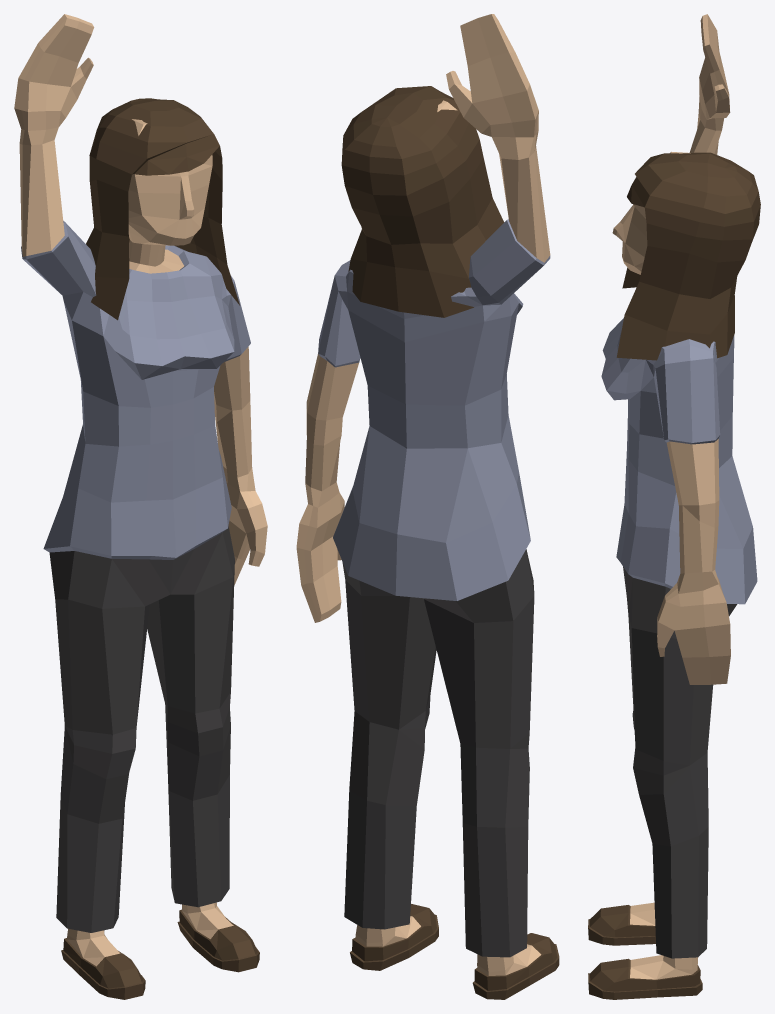
The model's file is Female_Standing_Waving.glb.
3 views of the same model, side by side, from view 1: azimuth 30°, elevation 25°; view 2: azimuth 150°, elevation 25°; view 3: azimuth 270°, elevation 25° (orthographic). The views are drawn at different scales.
Parts seen in each view (by area): view 1: Female_Standing_Waving; view 2: Female_Standing_Waving; view 3: Female_Standing_Waving.
Part boxes in pixels (<box>): Female_Standing_Waving: <box>14,14,267,999</box>; Female_Standing_Waving: <box>296,14,559,999</box>; Female_Standing_Waving: <box>588,14,760,999</box>.
Size of the model in its own units: 0.4763 by 1.89 by 0.3219.
